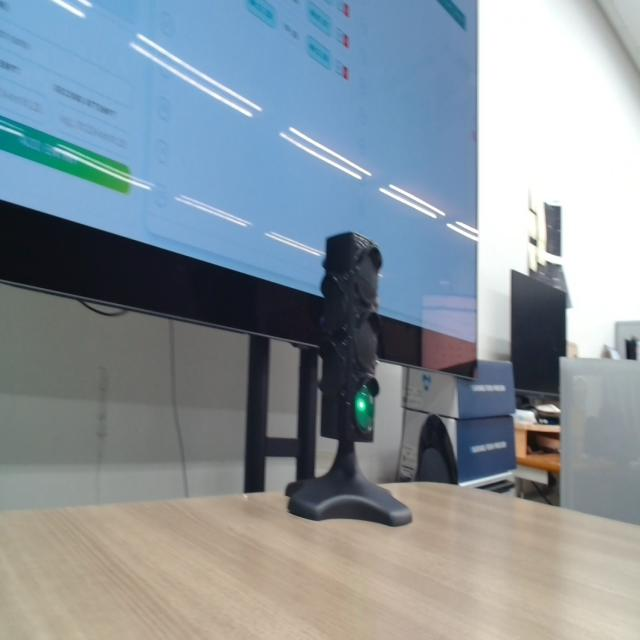green_light: (354, 386, 375, 432)
